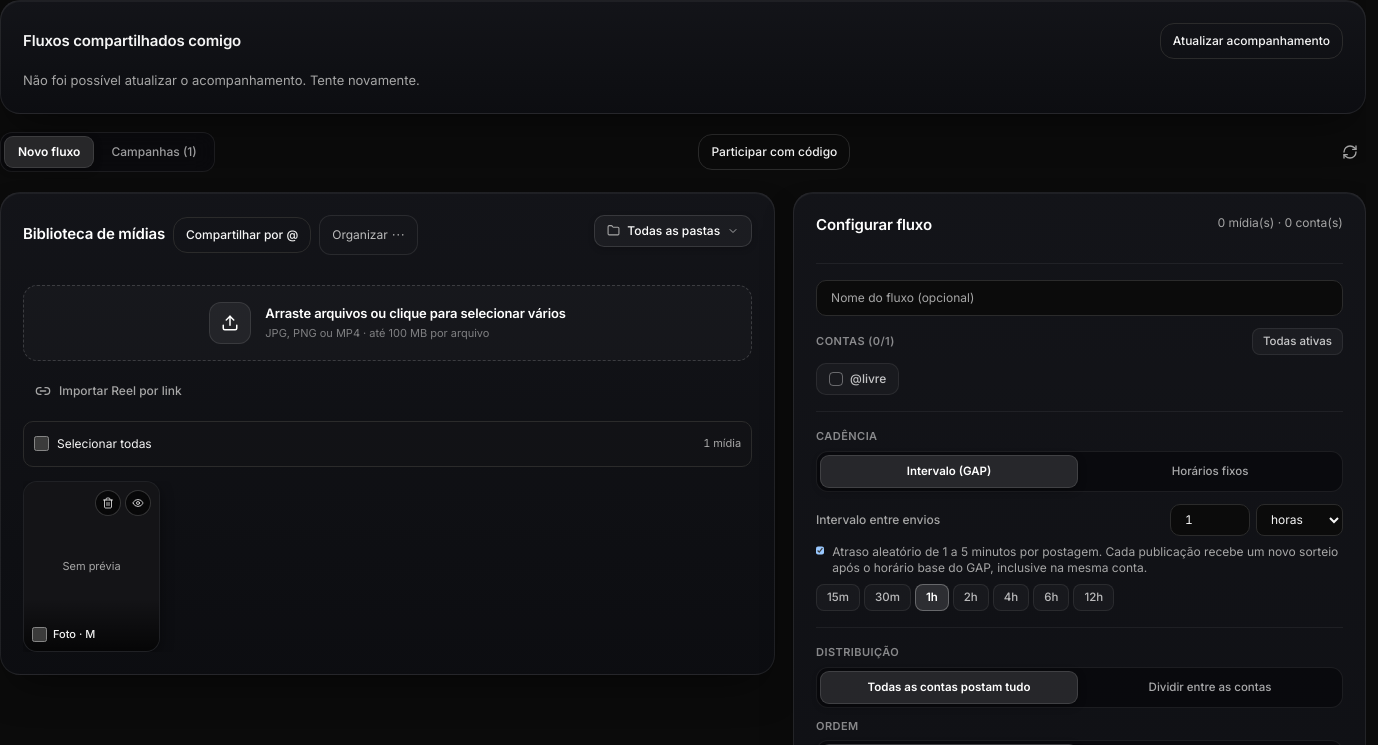
Fluxos interface › oculta contas vinculadas a fluxos ativos ao criar novo fluxo e selecionar todas ativas
This screenshot has width=1378, height=745.
Expected: the heading "Biblioteca de mídias" is shown, x1=23 y1=224 x2=165 y2=244
Expected: the checkbox labelled "@livre" is shown, x1=829 y1=372 x2=843 y2=386
Click the button "Todas ativas".
click(1297, 341)  # box x1=1252 y1=328 x2=1343 y2=355
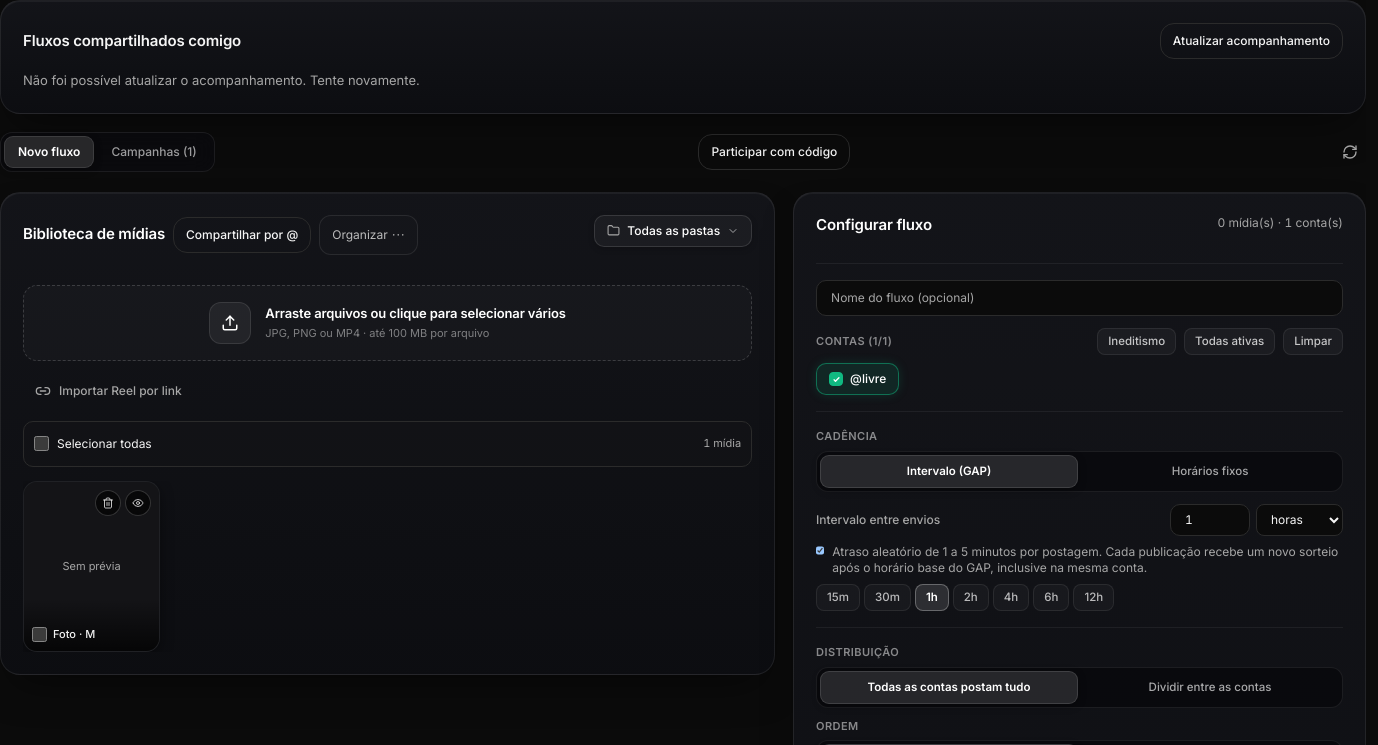
Result: the checkbox labelled "@livre" is checked at x1=829 y1=372 x2=843 y2=386
